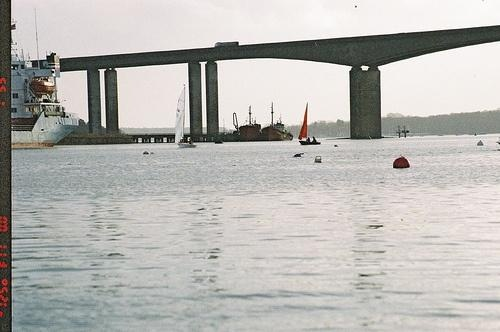boat: (12, 46, 82, 151), (174, 83, 200, 151), (263, 100, 295, 143), (298, 101, 323, 147), (239, 104, 263, 143)
